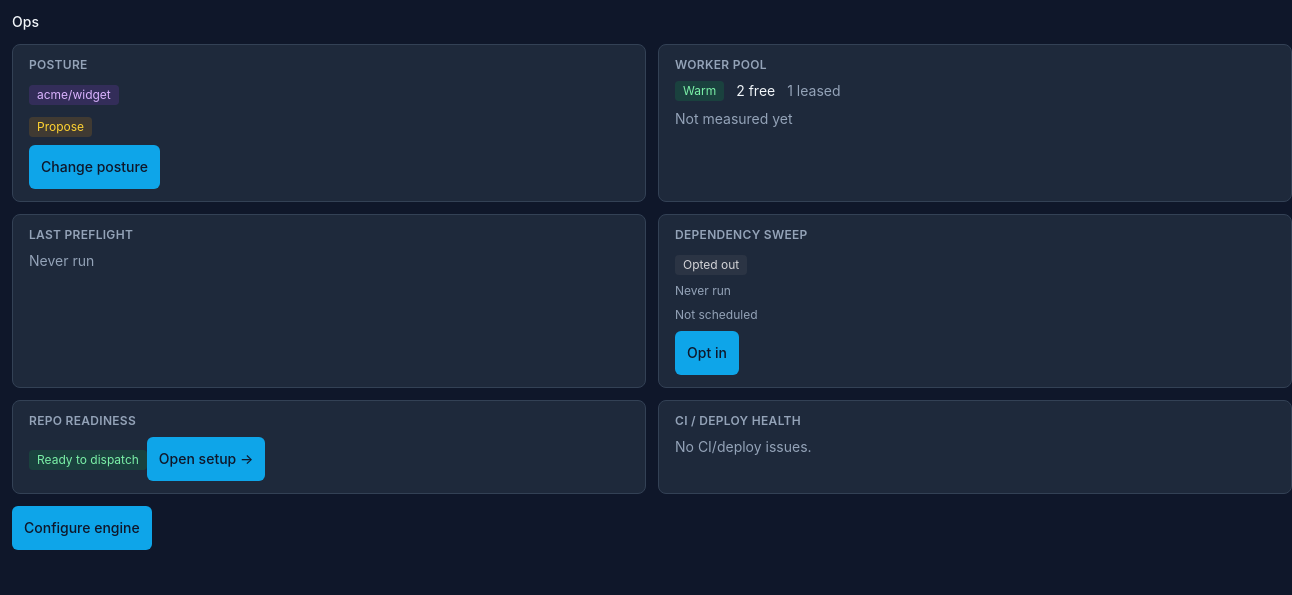
Test: EngineOpsPanel › surfaces a generic error when the toggle fails for a non-Finding reason
Click the button with test id "engine-ops-dep-sweep-toggle-button" at (707, 353), box [675,331,739,375]
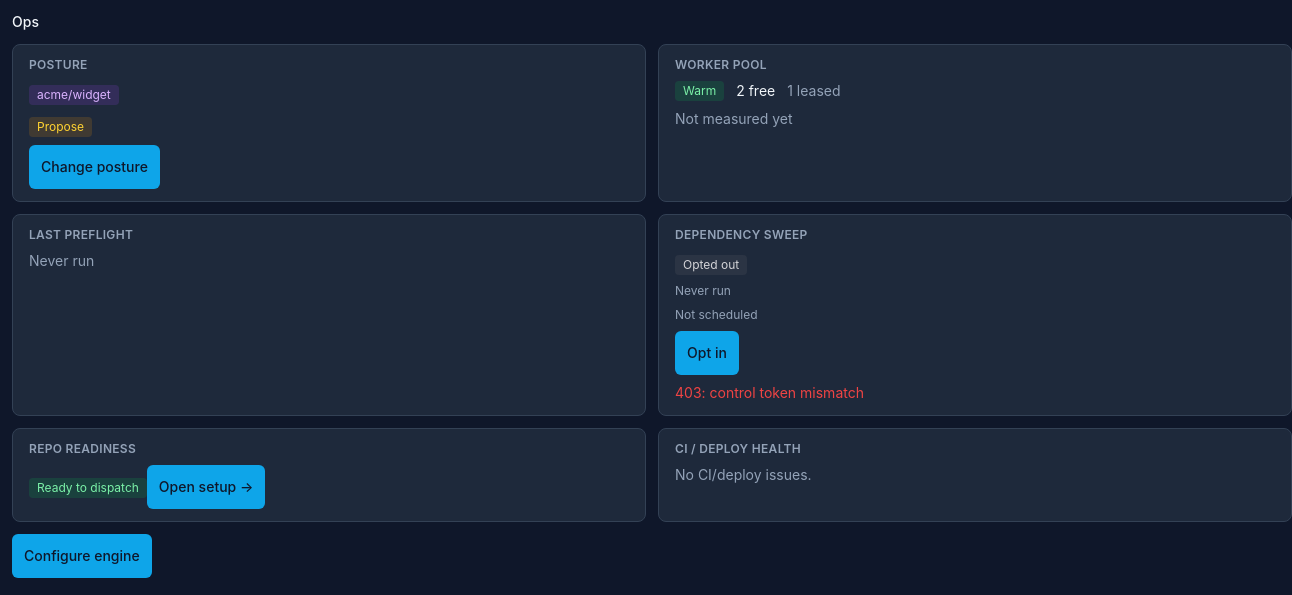
expect the message with test id "engine-ops-dep-sweep-toggle-error" shows "control token mismatch": met, box [675,384,864,401]
